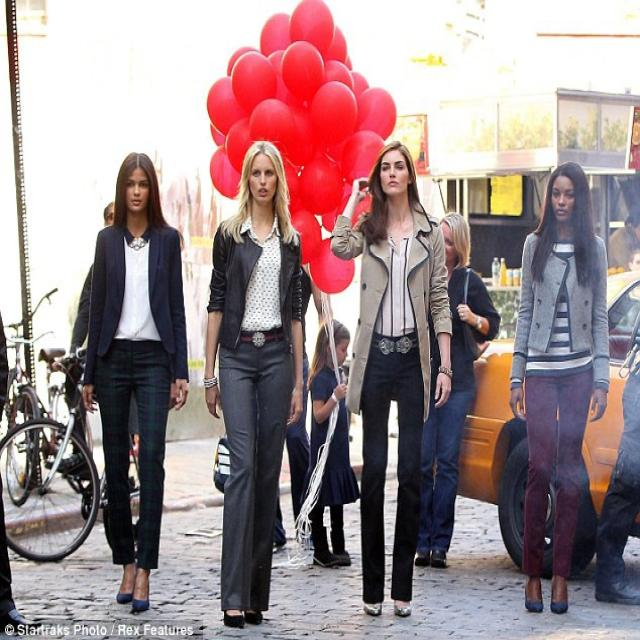body: (328, 139, 457, 620), (78, 148, 191, 614), (202, 138, 305, 630), (507, 158, 612, 618), (413, 210, 502, 570), (41, 198, 140, 506), (275, 262, 333, 558), (298, 316, 364, 572), (590, 312, 640, 610), (604, 208, 640, 268)
